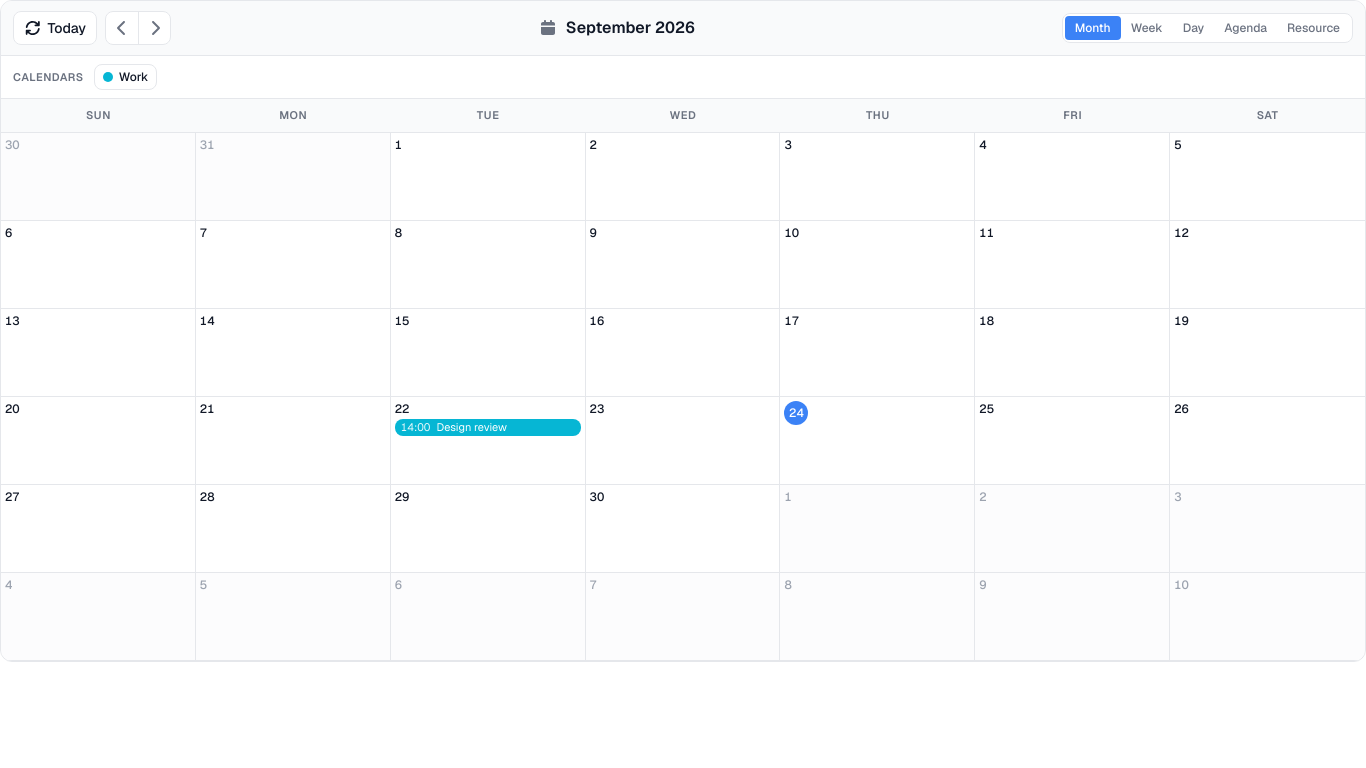
Test case: <Calendar /> event popover › opens on click with the event details and closes on Escape
The width and height of the screenshot is (1366, 768).
Click the button with aria-label "Design review — 14:00 to 15:00" at [488, 427], box 395,418 -> 581,436
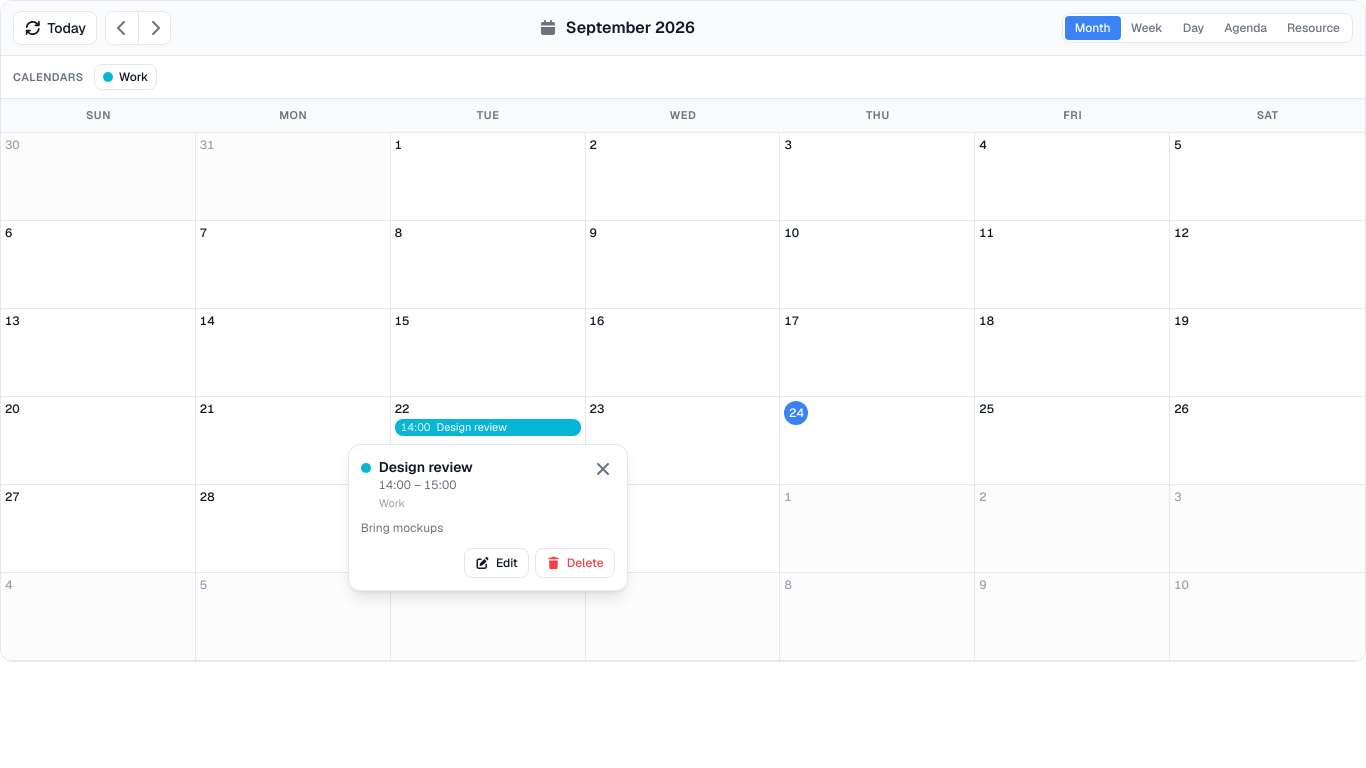
Now the dialog "Design review" shows "14:00 – 15:00", box 379,477 -> 456,493
Now the dialog "Design review" shows "Bring mockups", box 361,520 -> 443,536
Now the dialog "Design review" shows "Work", box 379,496 -> 405,510
Press Escape
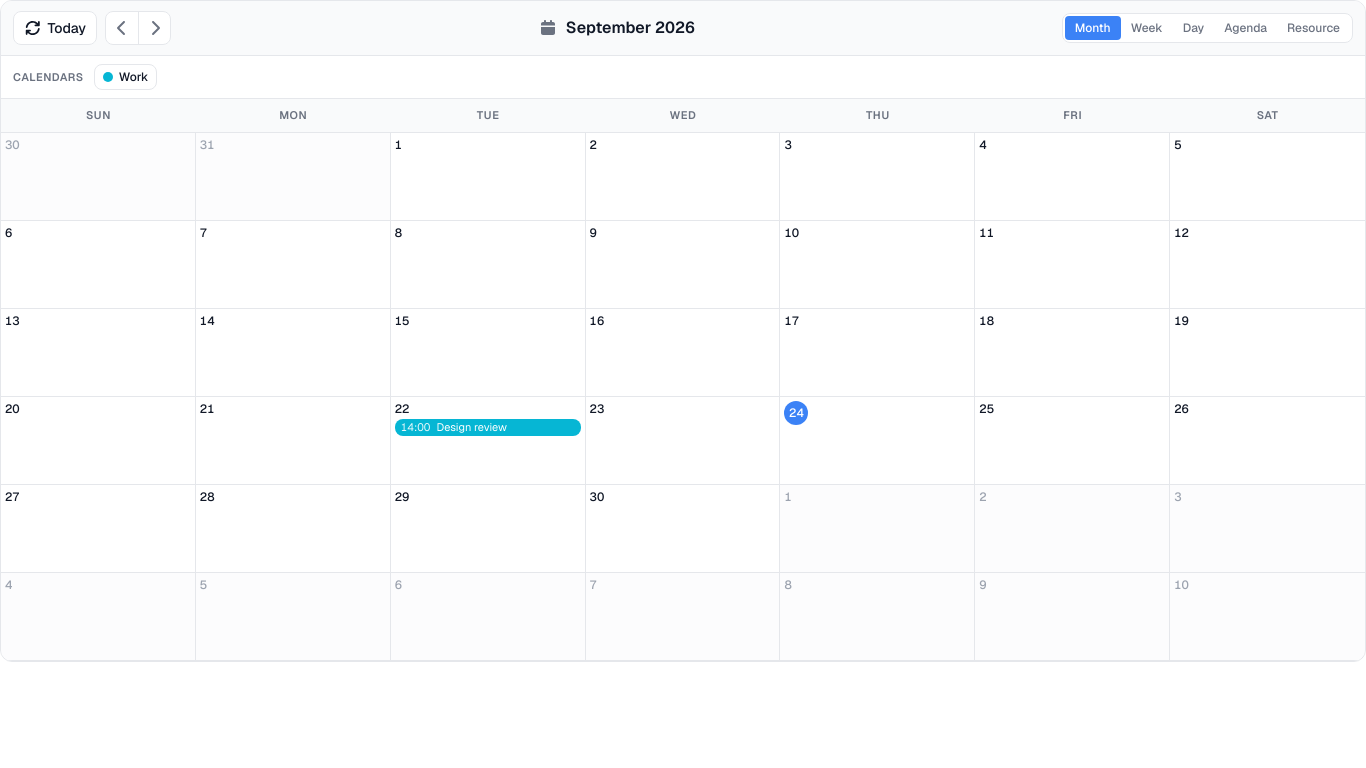
Now the dialog is gone
